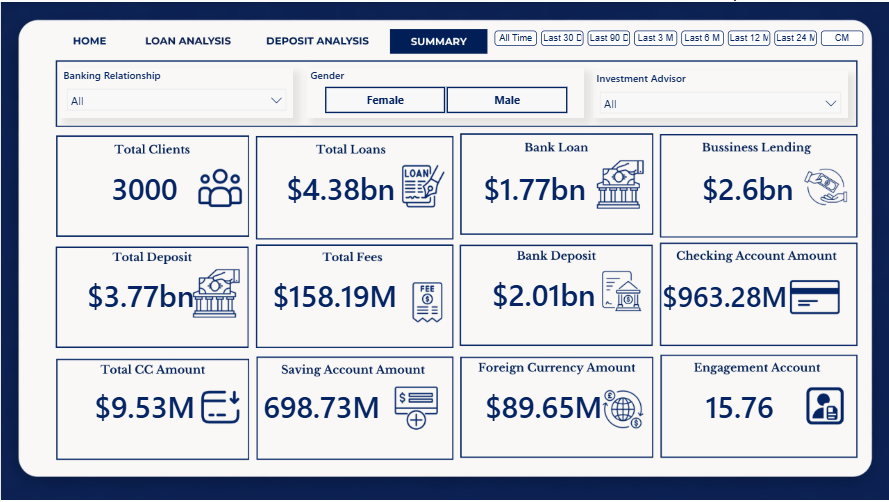

Layout of this report page (visuals, bound fields, positions):
{"tool":"powerbi","page":{"name":"Summary","canvas":[1280,720],"ordinal":3},"visuals":[{"type":"actionButton","box":[76.3,40.3,99.4,40.3],"z":0},{"type":"actionButton","box":[175.7,40.3,188.6,40.3],"z":1000},{"type":"actionButton","box":[378.7,40.3,167,40.3],"z":2000},{"type":"slicer","title":"Banking Relationship","fields":{"Values":["public customer.BRId"]},"box":[85.2,95.1,335.8,71.6],"z":3000},{"type":"slicer","title":"Gender","fields":{"Values":["public customer.GenderId"]},"box":[440.7,95.1,398.8,71.6],"z":4000},{"type":"slicer","title":"Investment Advisor","fields":{"Values":["public customer.IAId"]},"box":[851.9,100,366.7,66.7],"z":5000},{"type":"card","fields":{"Values":["public customer.Total Clients"]},"box":[90.7,231.8,231.8,70.6],"z":6000},{"type":"card","fields":{"Values":["public customer.Total Loans"]},"box":[373,231.8,231.8,70.6],"z":7000},{"type":"card","fields":{"Values":["Sum(public customer.Bank Loans)"]},"box":[652.3,231.8,231.8,70.6],"z":8000},{"type":"card","fields":{"Values":["Sum(public customer.Business Lending)"]},"box":[959,231.8,231.8,70.6],"z":9000},{"type":"card","fields":{"Values":["public customer.Total Deposit"]},"box":[85,385.9,231.8,70.6],"z":10000},{"type":"card","fields":{"Values":["public customer.Total Fees"]},"box":[364.3,385.9,231.8,70.6],"z":11000},{"type":"card","fields":{"Values":["Sum(public customer.Bank Deposits)"]},"box":[665.3,384.5,231.8,70.6],"z":12000},{"type":"card","fields":{"Values":["Sum(public customer.Checking Accounts)"]},"box":[937.4,387.4,208.8,70.6],"z":13000},{"type":"card","fields":{"Values":["public customer.Total CC Amount"]},"box":[90.7,545.8,231.8,70.6],"z":14000},{"type":"card","fields":{"Values":["Sum(public customer.Saving Accounts)"]},"box":[345.6,545.8,231.8,70.6],"z":15000},{"type":"card","fields":{"Values":["Sum(public customer.Foreign Currency Account)"]},"box":[665.3,545.8,231.8,70.6],"z":16000},{"type":"card","fields":{"Values":["public customer.Average Engagement Years"]},"box":[993.6,545.8,139.7,70.6],"z":17000},{"type":"ChicletSlicer1448559807354","fields":{"Category":["Period Filter.Period"]},"box":[702.7,33.1,547.2,47.5],"z":18000}]}

Visuals, with their boxes in screenshot pixels (x1, y1, x2, y2), scaled from the page's 1280x720 canvas onto the 889x502 screenshot:
actionButton: (53,28,122,56)
actionButton: (122,28,253,56)
actionButton: (263,28,379,56)
"Banking Relationship" slicer: (59,66,292,116)
"Gender" slicer: (306,66,583,116)
"Investment Advisor" slicer: (592,70,846,116)
card - public customer.Total Clients: (63,162,224,211)
card - public customer.Total Loans: (259,162,420,211)
card - Sum(public customer.Bank Loans): (453,162,614,211)
card - Sum(public customer.Business Lending): (666,162,827,211)
card - public customer.Total Deposit: (59,269,220,318)
card - public customer.Total Fees: (253,269,414,318)
card - Sum(public customer.Bank Deposits): (462,268,623,317)
card - Sum(public customer.Checking Accounts): (651,270,796,319)
card - public customer.Total CC Amount: (63,381,224,430)
card - Sum(public customer.Saving Accounts): (240,381,401,430)
card - Sum(public customer.Foreign Currency Account): (462,381,623,430)
card - public customer.Average Engagement Years: (690,381,787,430)
ChicletSlicer1448559807354 - Period Filter.Period: (488,23,868,56)
